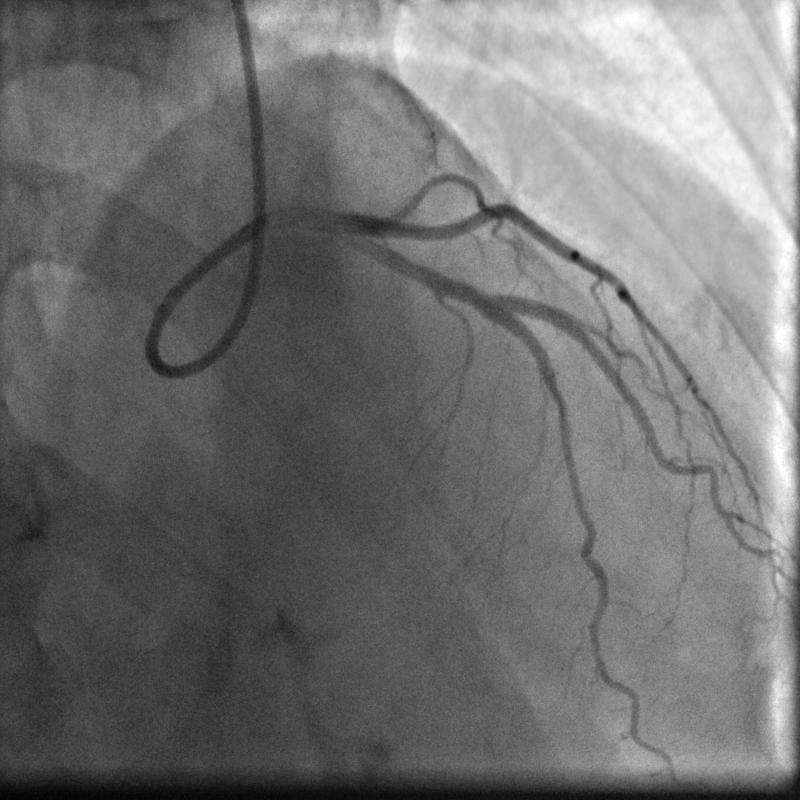Stenosis: (460, 275, 485, 316)
